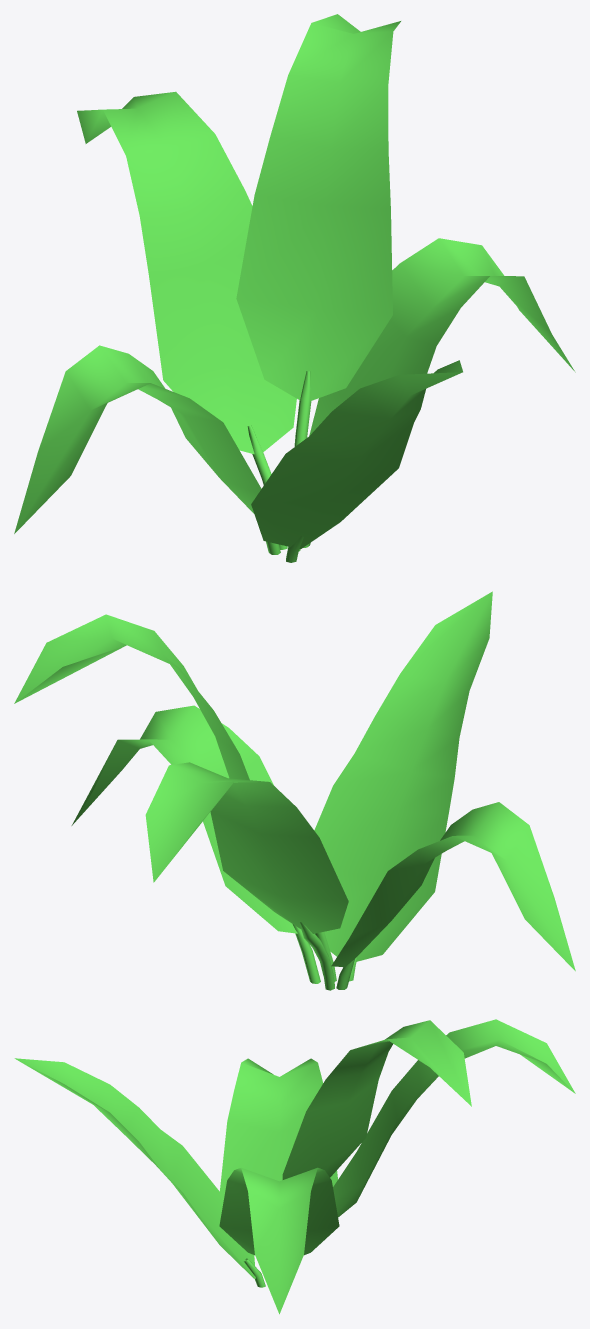
File: Fern2.fbx
The picture shows the model from 3 angles, top to bottom: view 1: azimuth 30°, elevation 25°; view 2: azimuth 150°, elevation 25°; view 3: azimuth 270°, elevation 25°; orthographic projection. The views are drawn at different scales.
Parts seen in each view (by area): view 1: Plane.004; view 2: Plane.004; view 3: Plane.004.
Part boxes in pixels (left/top/right/bottom): Plane.004: left=14, top=14, right=575, bottom=562; Plane.004: left=14, top=591, right=575, bottom=990; Plane.004: left=14, top=1019, right=575, bottom=1314.
Size of the model in its own units: 130 by 93.41 by 151.
